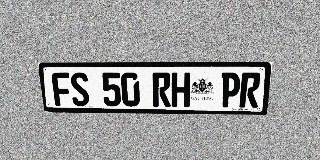0: (120, 72, 140, 107)
5: (102, 72, 122, 106)
F: (51, 72, 72, 106)
H: (171, 72, 190, 107)
P: (220, 72, 241, 107)
R: (239, 72, 261, 108), (152, 72, 171, 107)
S: (69, 72, 90, 106)
